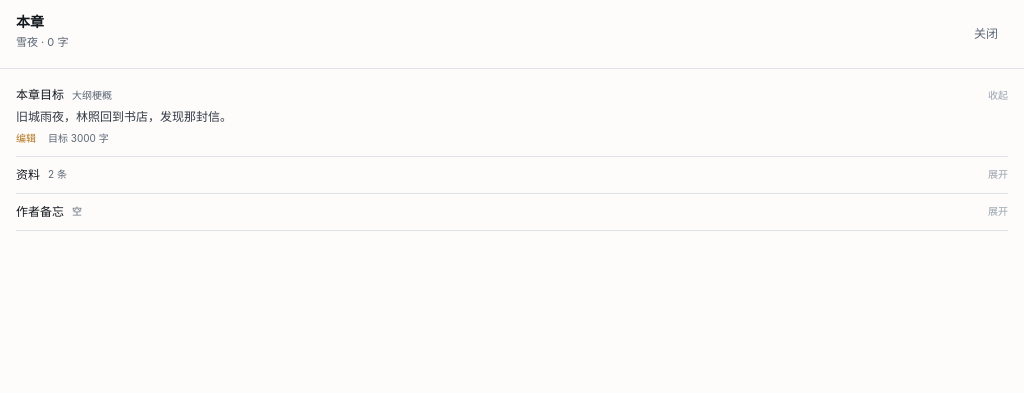
右栏「本章」 › 保存失败时保留编辑态并提示
Click the button "作者备忘 空 展开" at (40, 211), box [16,204,1008,220]
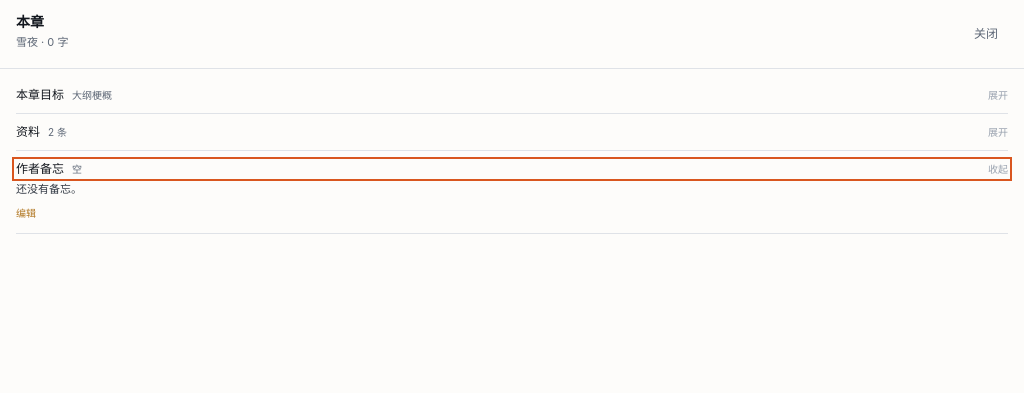
Click the button "编辑" at (26, 213), box [16,206,36,221]
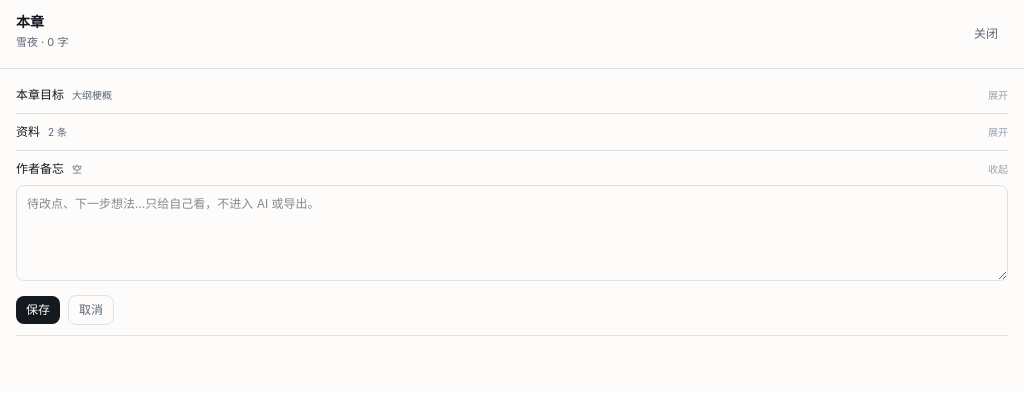
Type "这段不能丢。" into the text box named "作者备忘" at (512, 233), box [16,185,1008,281]
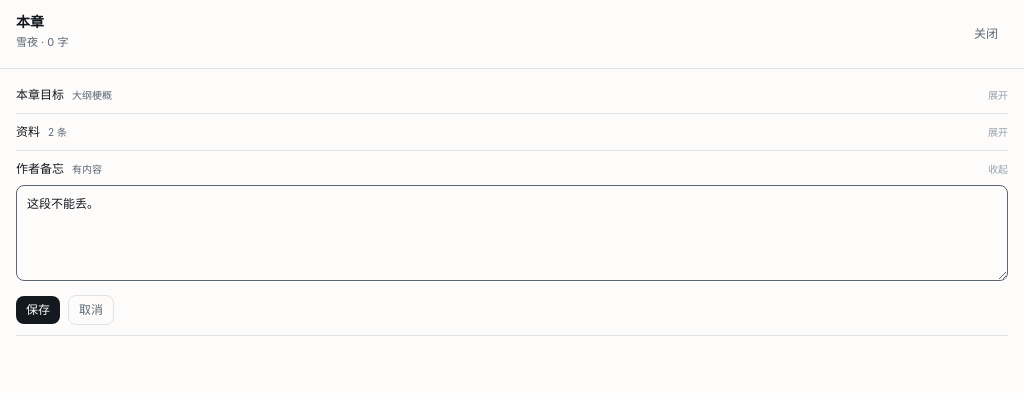
Click the button "保存" at (38, 310), box [16,296,60,324]
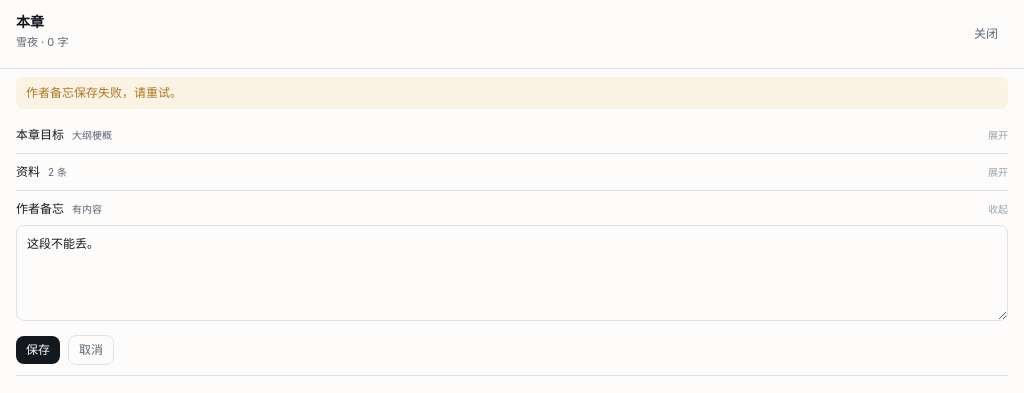
expect the message shows "作者备忘保存失败": met, box [26,85,182,100]
